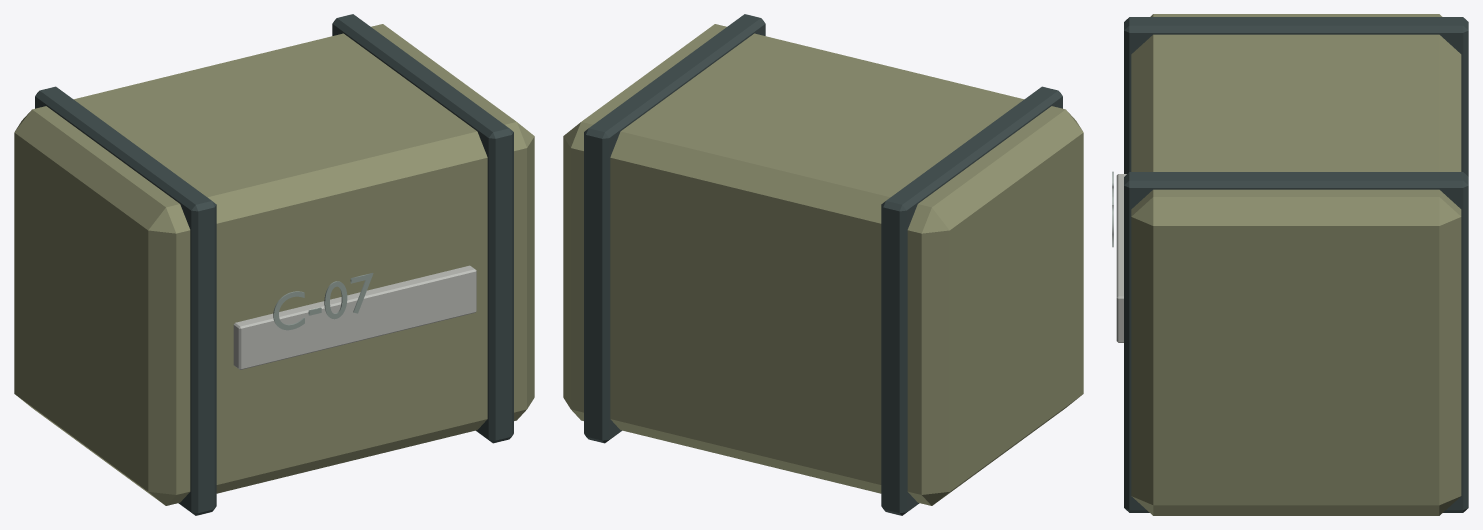
File: Cargo_Box.glb
3 views of the same model, side by side, from view 1: azimuth 30°, elevation 25°; view 2: azimuth 150°, elevation 25°; view 3: azimuth 270°, elevation 25° (orthographic). The views are drawn at different scales.
Parts seen in each view (by area): view 1: Cargo_Box; view 2: Cargo_Box; view 3: Cargo_Box.
Boxes of the visible parts, left/top/right/bottom form: Cargo_Box: left=14, top=14, right=534, bottom=515; Cargo_Box: left=563, top=14, right=1083, bottom=515; Cargo_Box: left=1112, top=14, right=1468, bottom=515.
Size of the model in its own units: 1.3 by 1 by 0.972.
